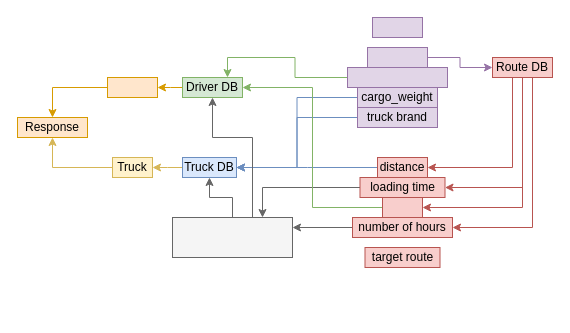
The diagram is 570 pixels wide and 333 high, and some of its shapes have lost their labels. Each missing label, with the box of its shape:
departure date: (346, 66, 448, 88)
destination: (366, 46, 428, 68)
Driver(s): (106, 76, 158, 98)
drivers: (382, 196, 422, 218)
Request: (372, 16, 422, 38)
Summary time driver(s) and truck will be busy: (172, 216, 292, 258)
